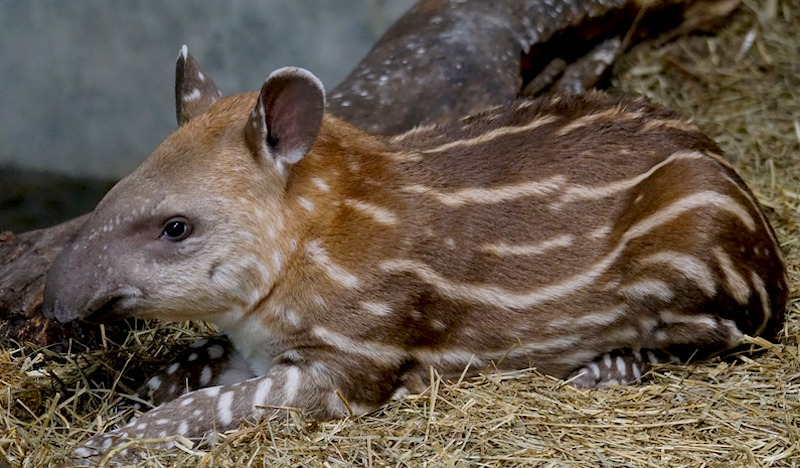Anta: (39, 34, 787, 433)
